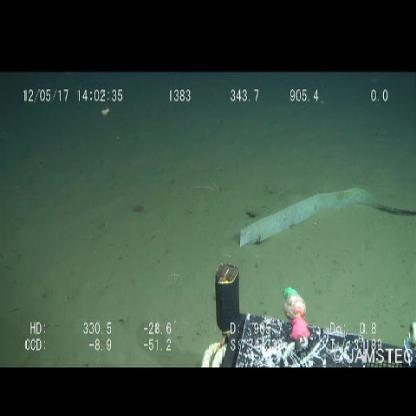Rov: (197, 258, 415, 364)
Rác: (235, 184, 416, 248)
